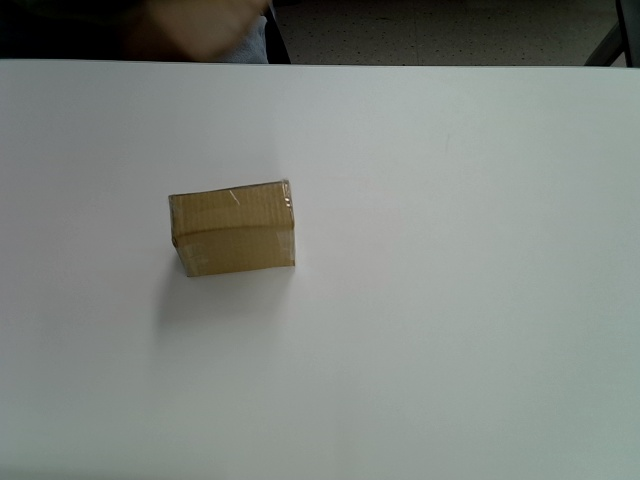normal: (168, 178, 296, 278)
